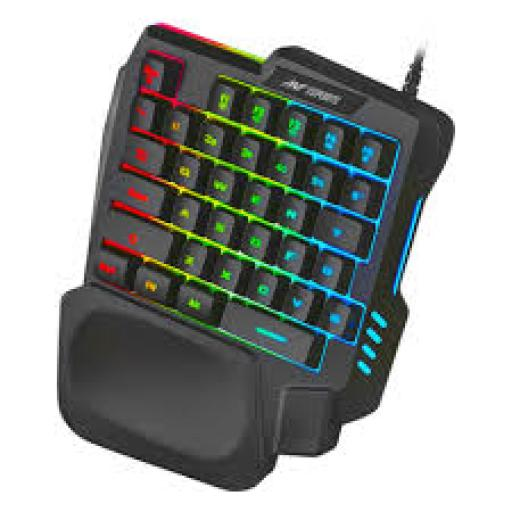keyboard: (59, 25, 451, 487)
